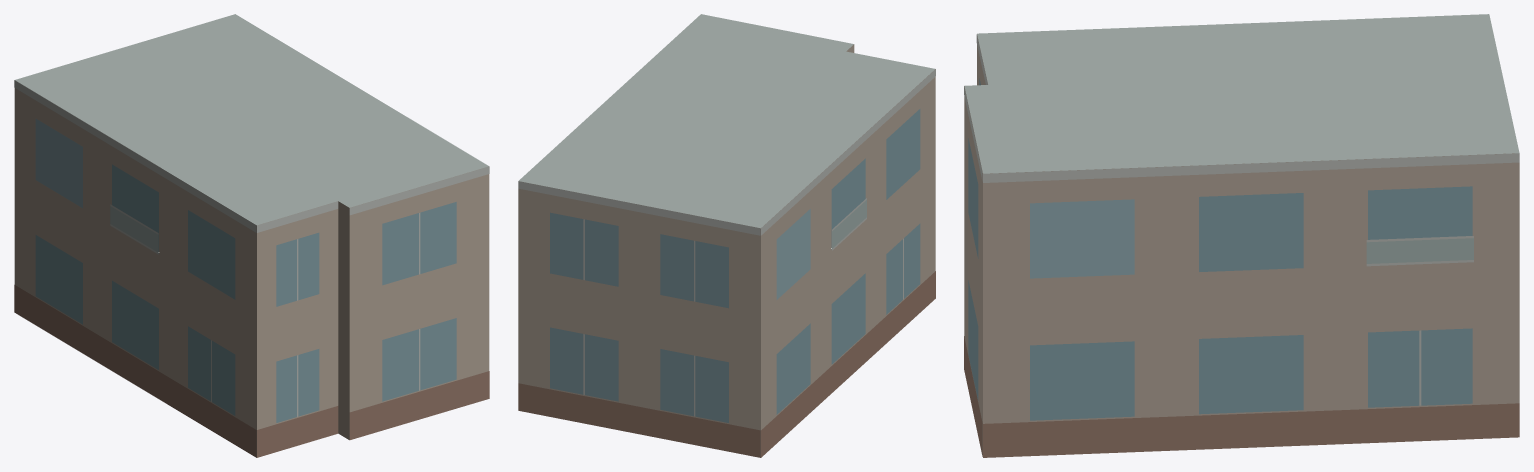
File: survey-upis-32750140.glb
The picture shows the model from 3 angles, left to right: view 1: azimuth 30°, elevation 25°; view 2: azimuth 150°, elevation 25°; view 3: azimuth 270°, elevation 25°; orthographic projection. The views are drawn at different scales.
Visible parts, largest first — view 1: survey-upis-32750140.tmp; view 2: survey-upis-32750140.tmp; view 3: survey-upis-32750140.tmp.
Part boxes in pixels (bbox=[...]): survey-upis-32750140.tmp: bbox=[14, 14, 489, 457]; survey-upis-32750140.tmp: bbox=[518, 14, 935, 457]; survey-upis-32750140.tmp: bbox=[964, 14, 1519, 457].
Bounding box in the file's own units: 8.93 × 7.4 × 13.12.
